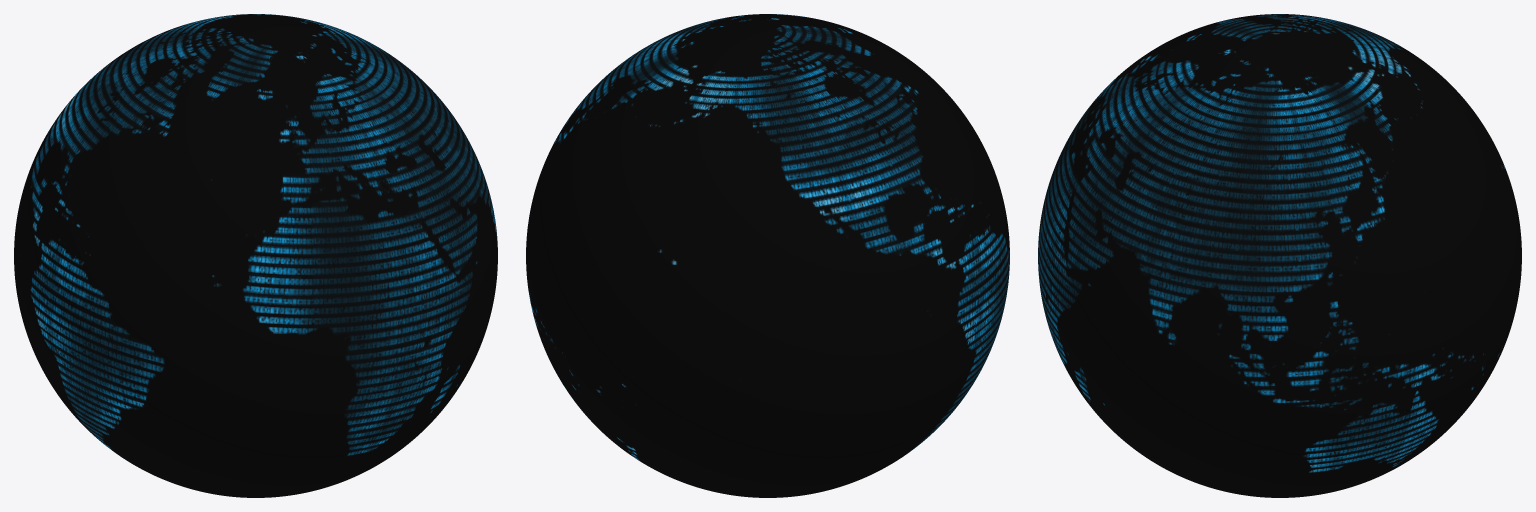
Rendered from Earth1_.2.glb.
3 renders of one model, left to right at view 1: azimuth 30°, elevation 25°; view 2: azimuth 150°, elevation 25°; view 3: azimuth 270°, elevation 25°, orthographic.
Visible parts, largest first — view 1: EARTH:Layer1_TERRE_0.001; view 2: EARTH:Layer1_TERRE_0.001; view 3: EARTH:Layer1_TERRE_0.001.
Part boxes in pixels (<box>): EARTH:Layer1_TERRE_0.001: <box>14,14,497,497</box>; EARTH:Layer1_TERRE_0.001: <box>526,14,1009,497</box>; EARTH:Layer1_TERRE_0.001: <box>1038,14,1521,497</box>.
Size of the model in its own units: 201 by 201 by 201.
2 materials, 1 textured.
